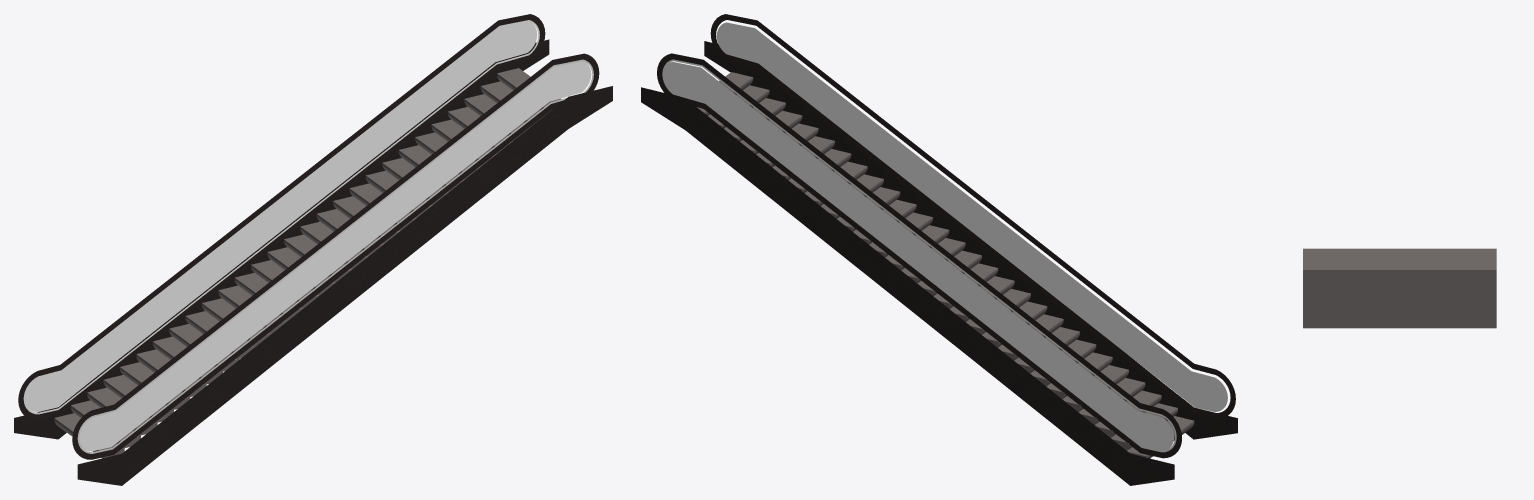
The model's file is Escalator.glb.
3 renders of one model, left to right at view 1: azimuth 30°, elevation 25°; view 2: azimuth 150°, elevation 25°; view 3: azimuth 270°, elevation 25°, orthographic. The views are drawn at different scales.
Parts seen in each view (by area): view 1: ESKAVATOR; view 2: ESKAVATOR; view 3: ESKAVATOR.
Boxes of the visible parts, x1,y1,x2,y2 form: ESKAVATOR: [14, 14, 612, 485]; ESKAVATOR: [641, 14, 1237, 485]; ESKAVATOR: [1303, 248, 1496, 328].
Bounding box in the file's own units: 92.73 × 52.39 × 19.
Materials: 3 (1 with a texture image).
